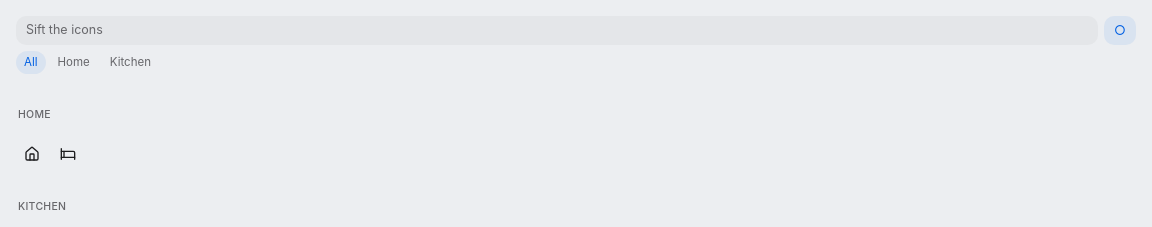
Test: a catalogue offered by family › narrows to the family that was pressed
This screenshot has width=1152, height=227.
Click the button "Kitchen".
click(130, 62)  # box x1=102 y1=51 x2=159 y2=74
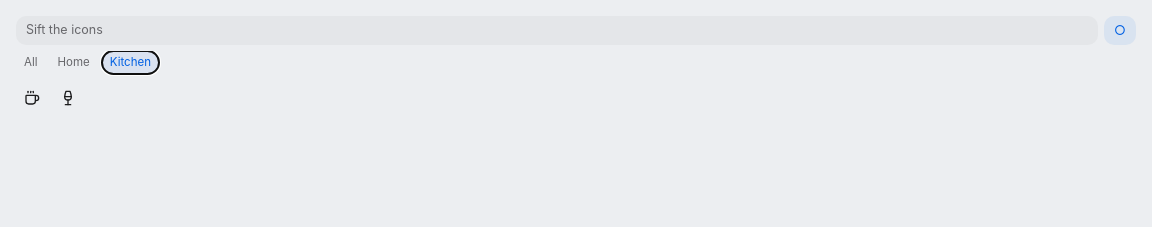
Result: the button named "coffee" is shown at x1=16 y1=82 x2=48 y2=114
Result: the button "bed" is gone
